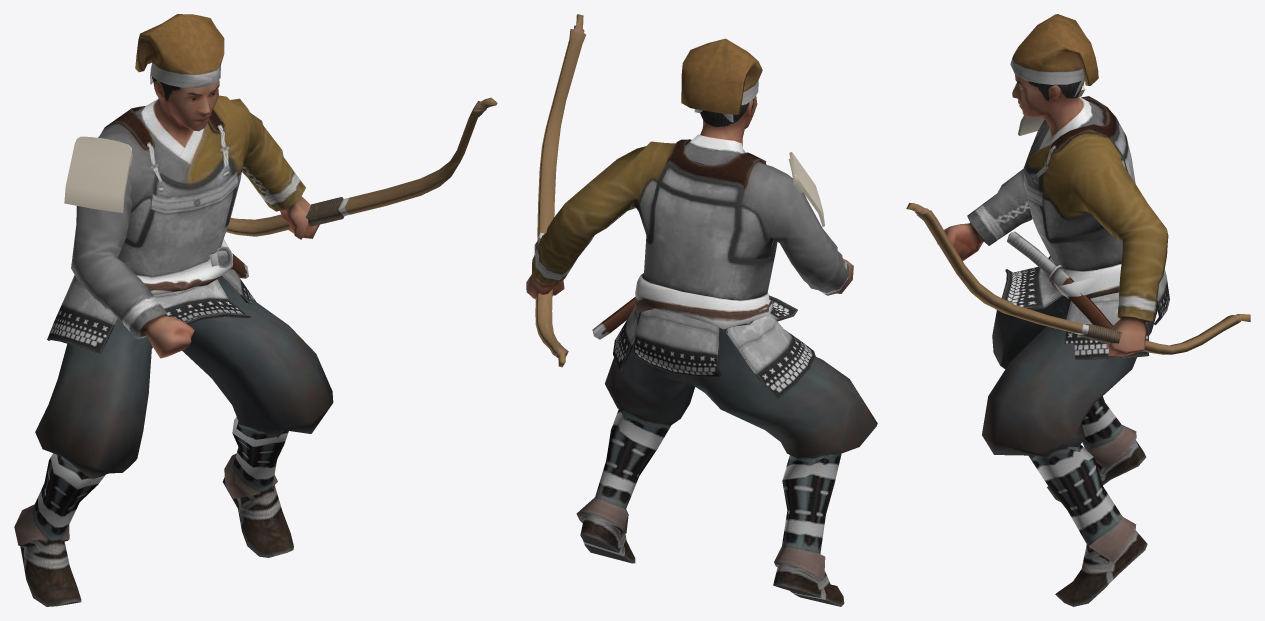
File: rider-mediumstablesoldiers.glb
The picture shows the model from 3 angles, left to right: view 1: azimuth 30°, elevation 25°; view 2: azimuth 150°, elevation 25°; view 3: azimuth 270°, elevation 25°; orthographic projection. The views are drawn at different scales.
Bounding box in the file's own units: 1.4 × 2.01 × 1.17.
4 materials, 3 textured.
